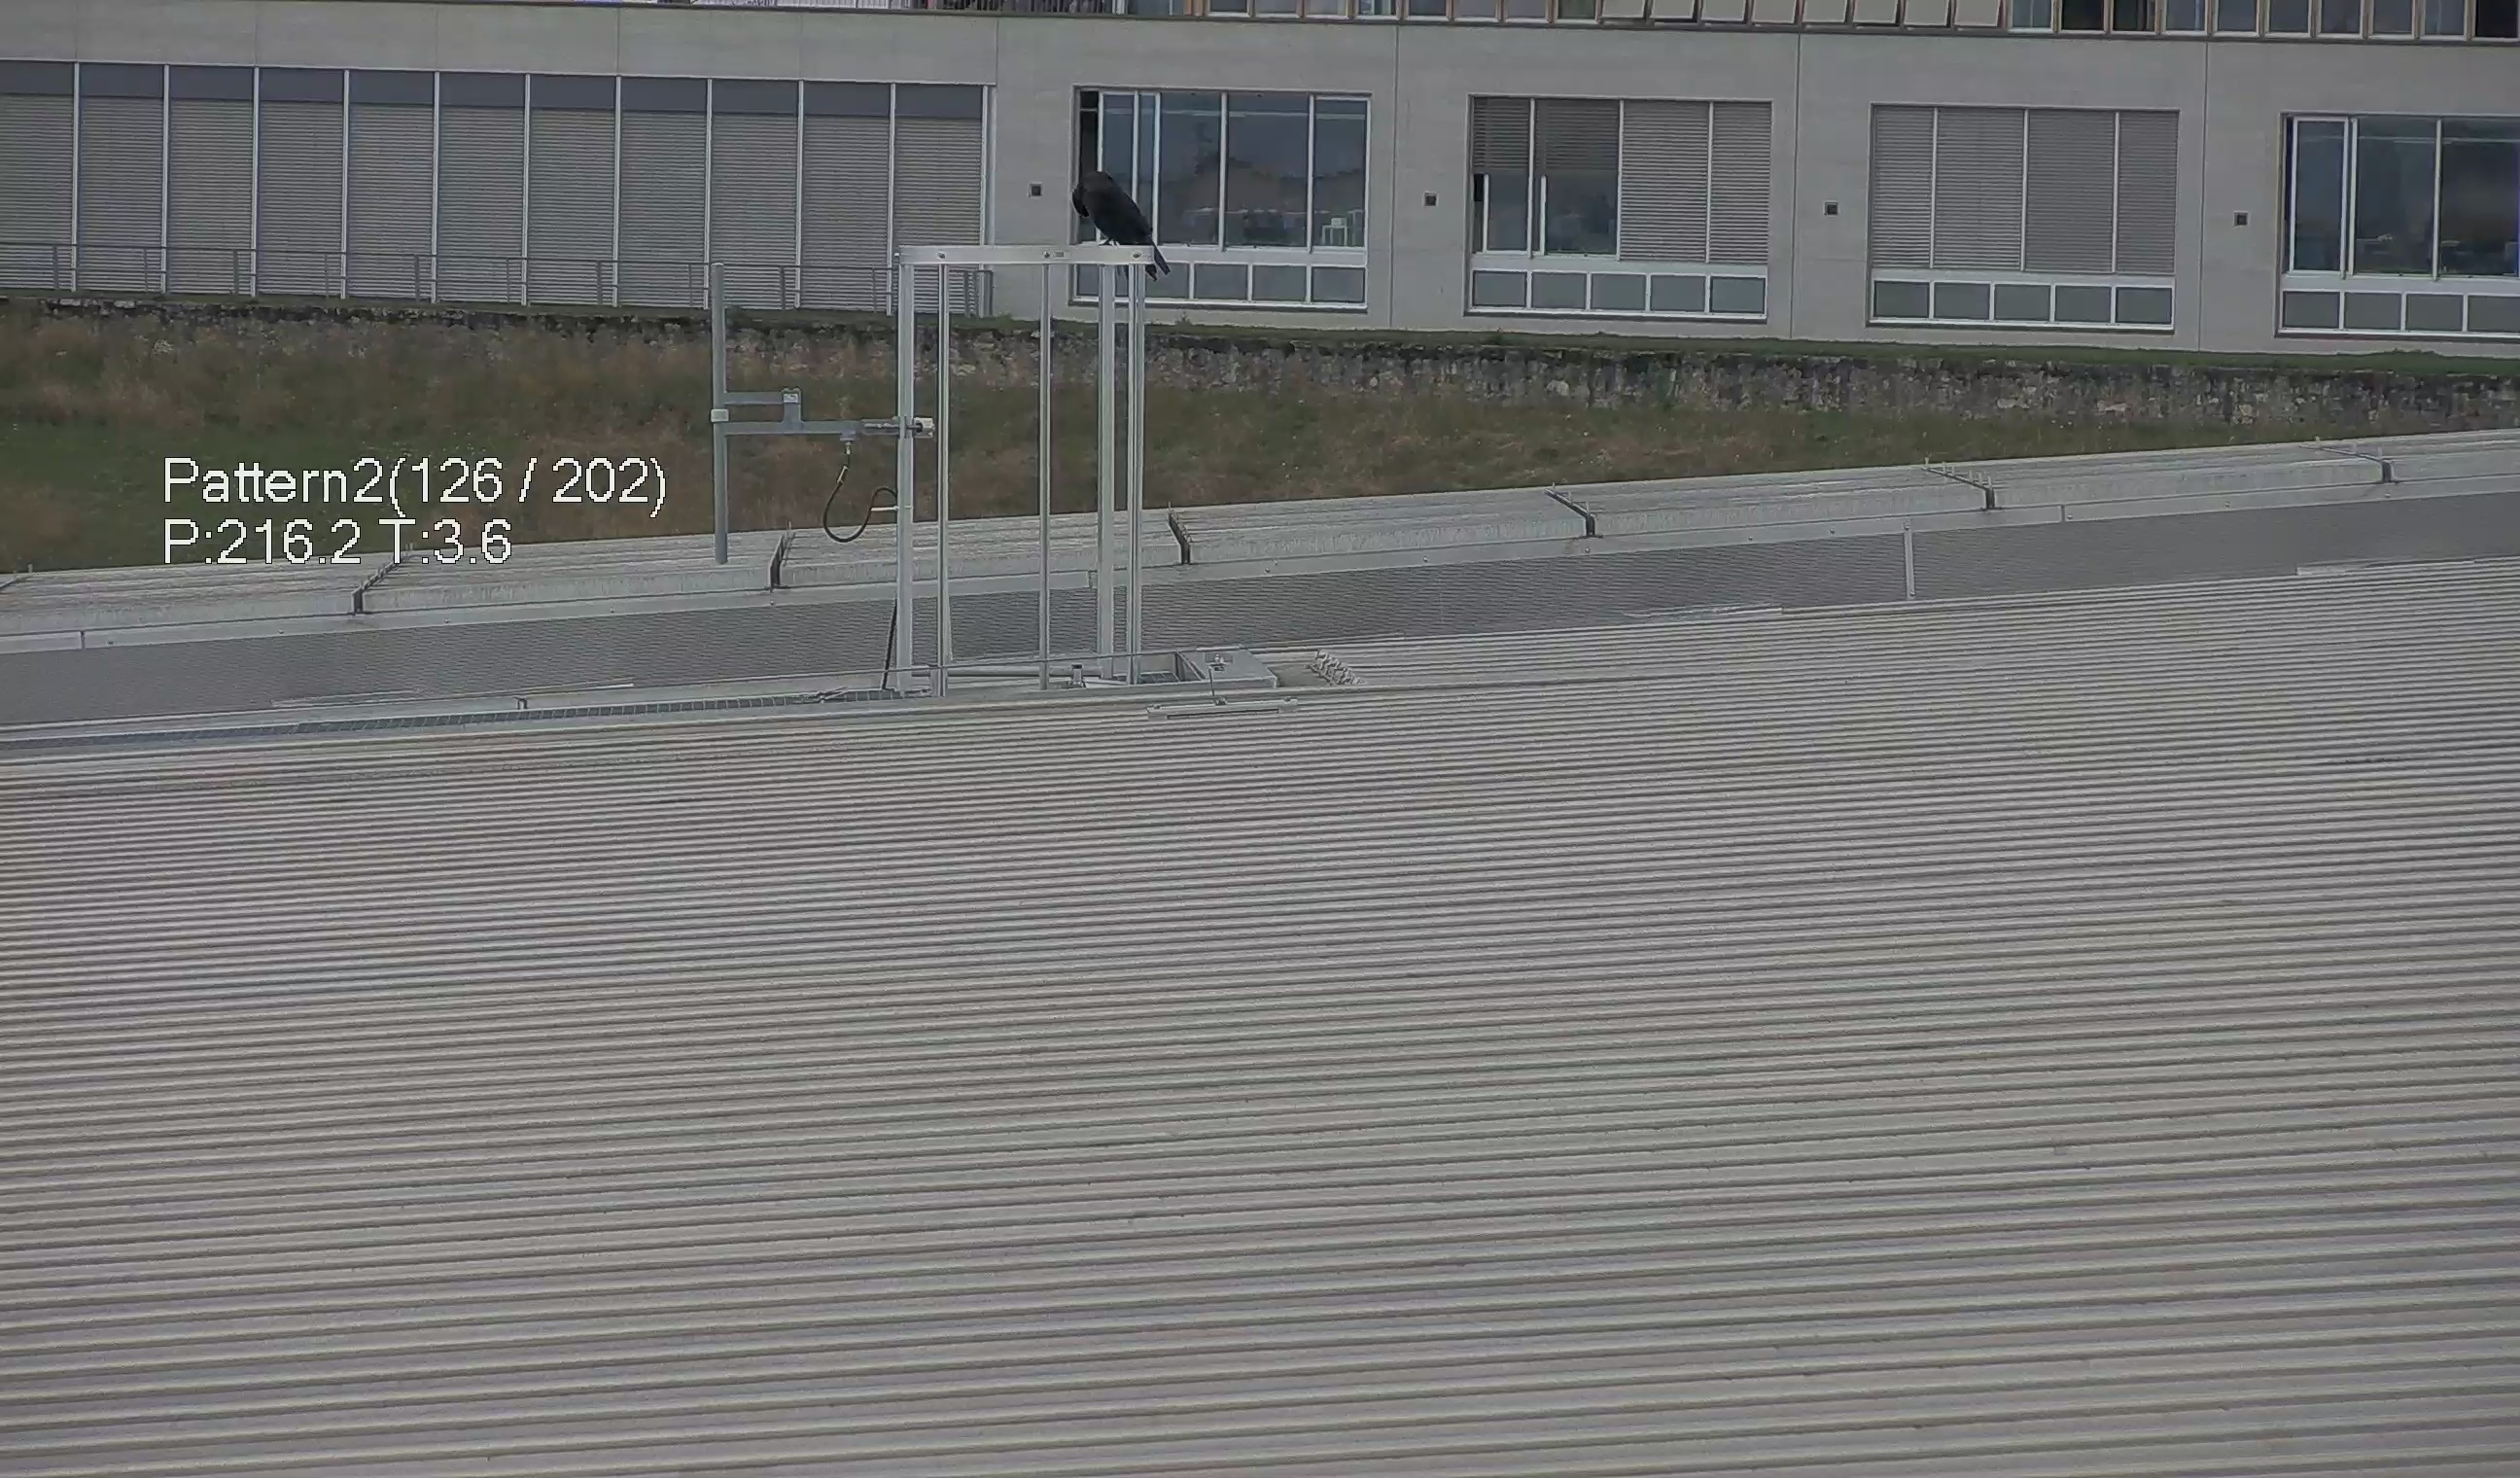Pigeon: (1060, 150, 1166, 271)
